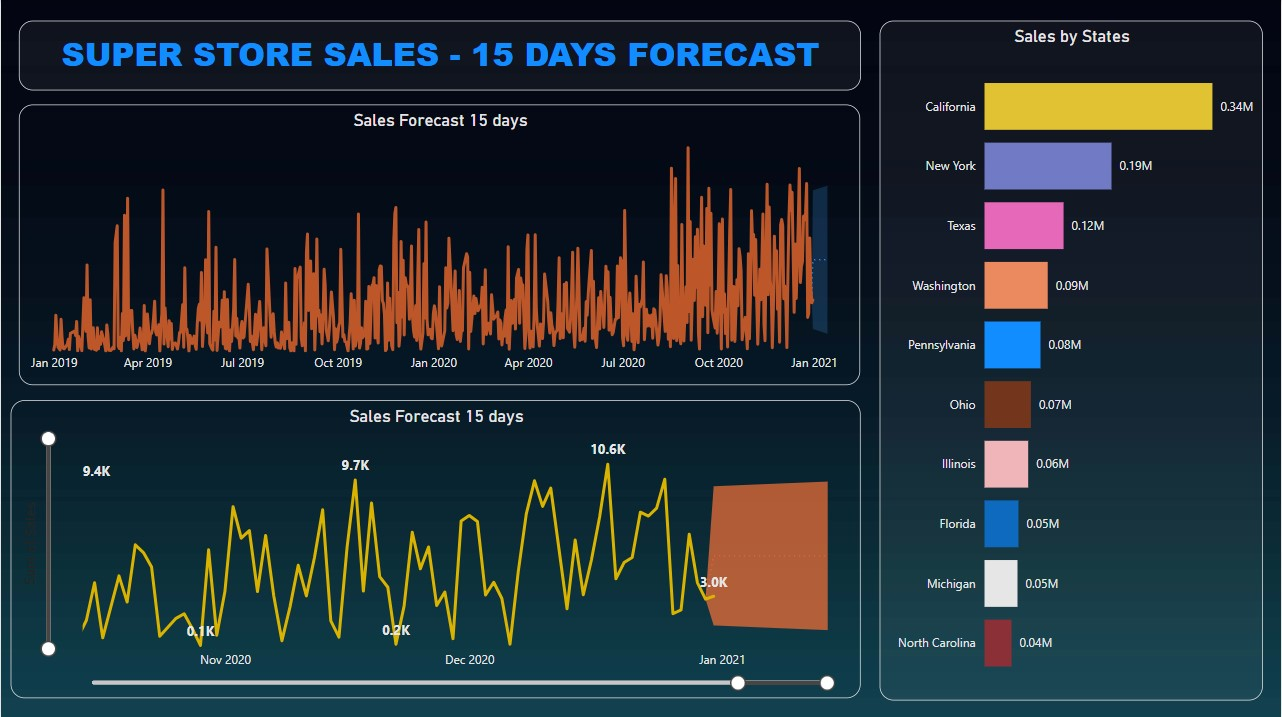

What the dashboard file says about the page in this screenshot:
{"tool":"powerbi","page":{"name":"Forecast","canvas":[1280,720],"ordinal":1},"visuals":[{"type":"lineChart","title":"Sales Forecast 15 days","fields":{"Y":["Sum(SuperStore Sales DataSet.Sales)"],"Category":["SuperStore Sales DataSet.Order Date"]},"box":[9.6,400.4,850.3,297.9],"z":0},{"type":"lineChart","title":"Sales Forecast 15 days","fields":{"Y":["Sum(SuperStore Sales DataSet.Sales)"],"Category":["SuperStore Sales DataSet.Order Date"]},"box":[18.1,104.9,841.8,281],"z":1000},{"type":"clusteredBarChart","title":"Sales by States","fields":{"Y":["Sum(SuperStore Sales DataSet.Sales)"],"Category":["SuperStore Sales DataSet.State"]},"box":[879,20.6,383.2,679.8],"z":2000},{"type":"textbox","box":[17.9,20.6,841.9,70],"z":3000}]}

Visuals, with their boxes in screenshot pixels (x1, y1, x2, y2), scaled from the page's 1280x720 canvas onto the 1282x717 screenshot:
"Sales Forecast 15 days" lineChart: BBox(10, 399, 861, 695)
"Sales Forecast 15 days" lineChart: BBox(18, 104, 861, 384)
"Sales by States" clusteredBarChart: BBox(880, 21, 1264, 697)
textbox: BBox(18, 21, 861, 90)
